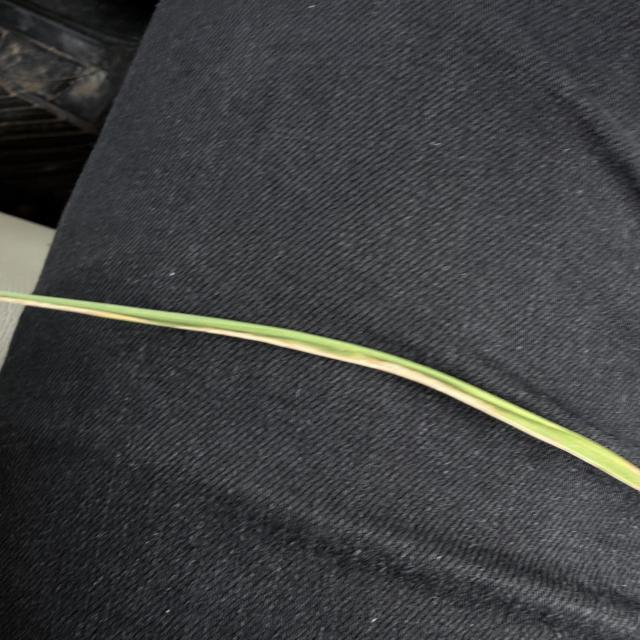Chay bia la: (0, 296, 532, 439)
